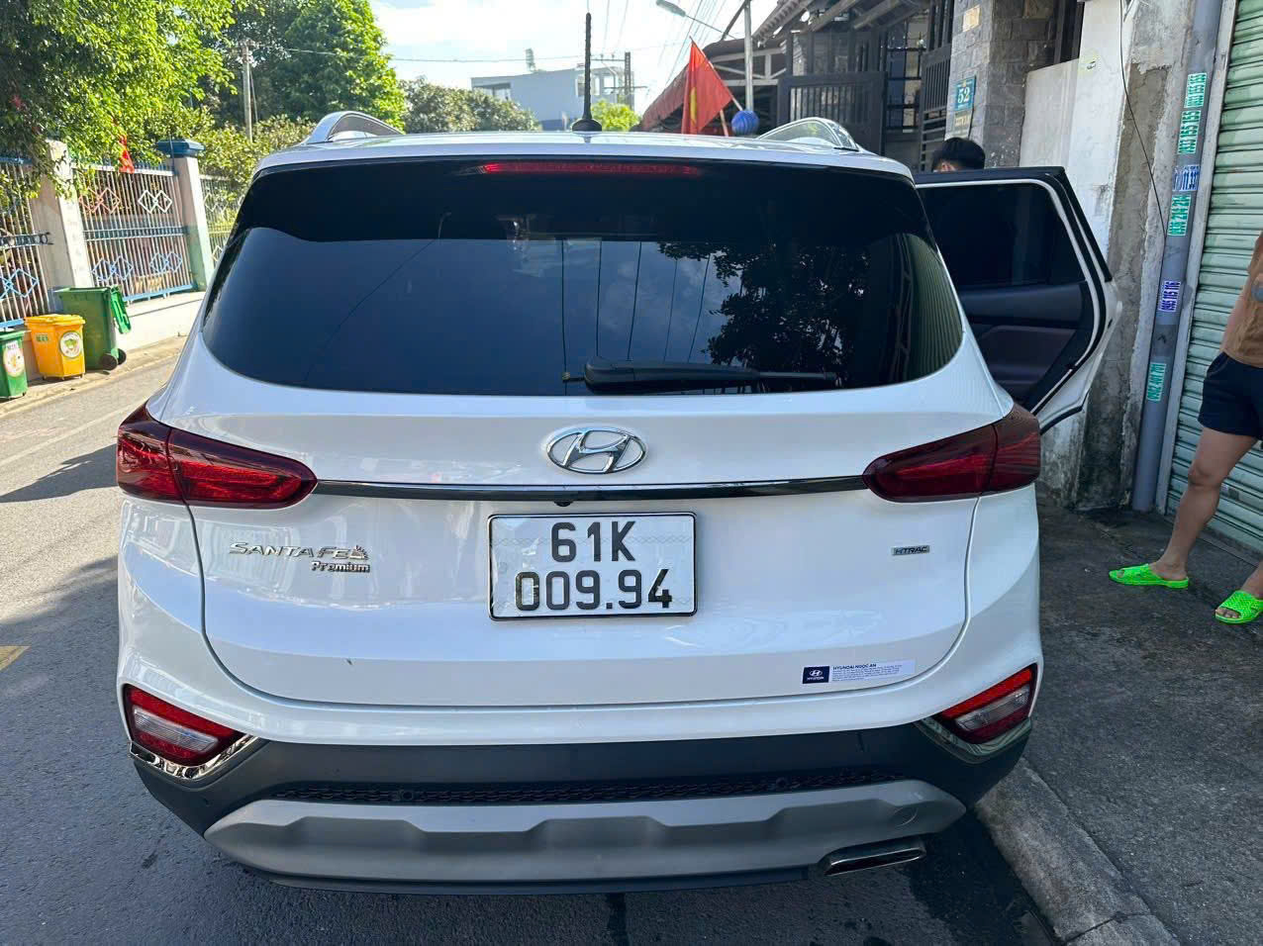Bien-so: (484, 502, 698, 631)
